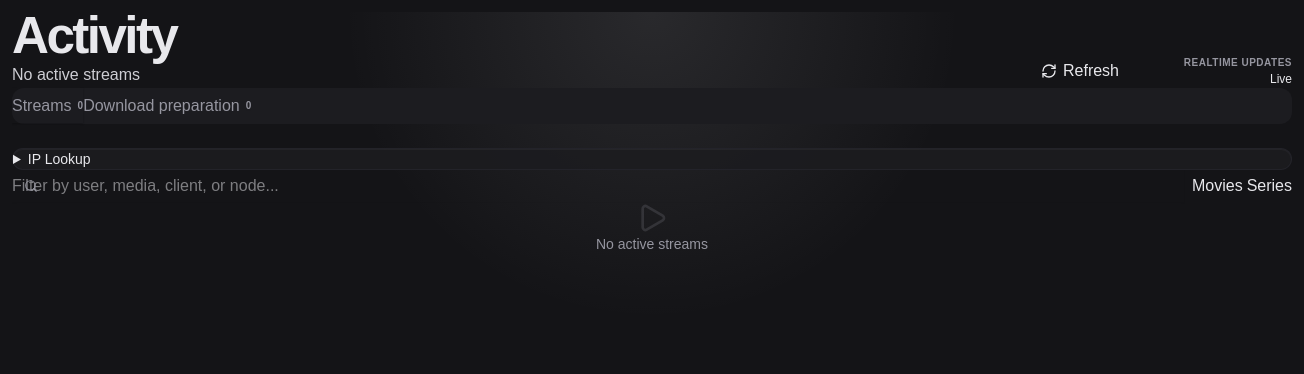
IP lookup › does not present a failed initial page as an empty result
The width and height of the screenshot is (1304, 374).
Step 1. Click the heading "IP Lookup" → (59, 159), box [28,151,91,167]
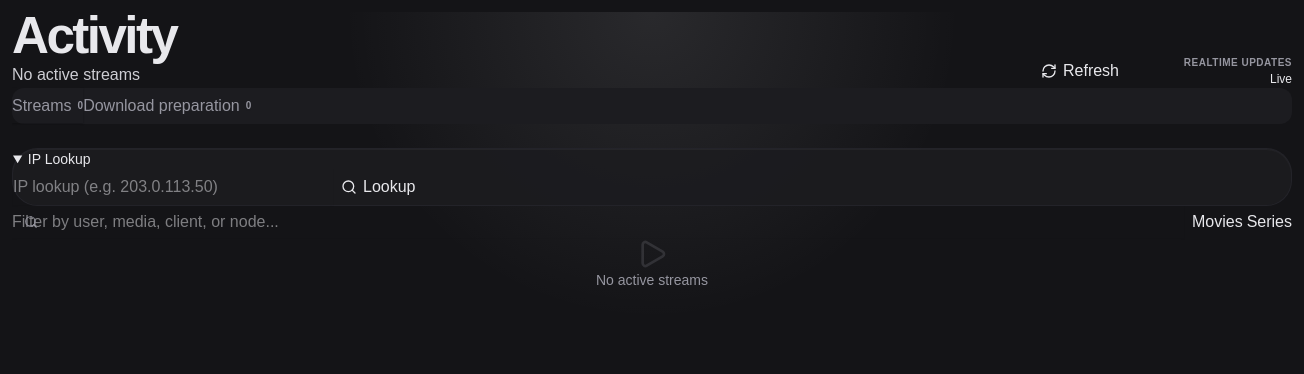
Step 2. Type "198.51.100.1" into the field with placeholder "IP lookup (e.g. 203.0.113.50)" → (173, 187), box [13,169,333,205]
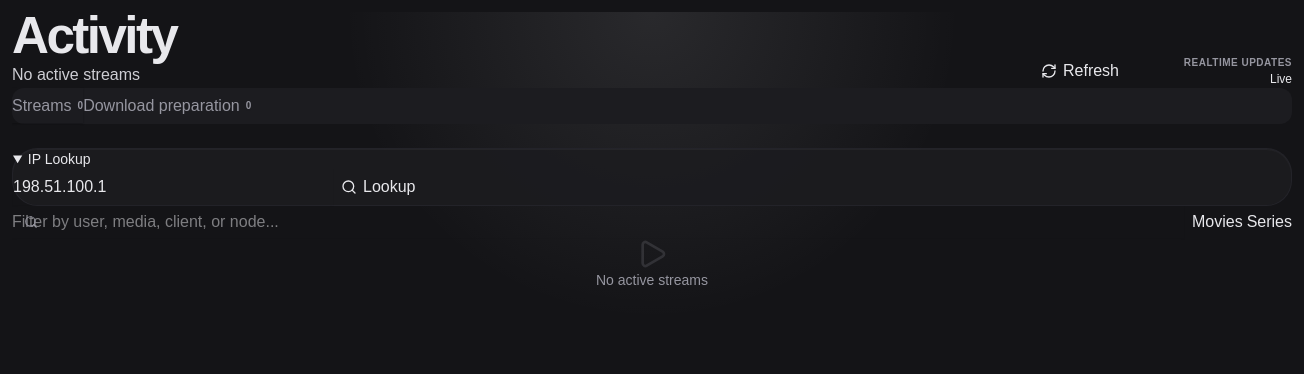
Step 3. Click the button "Lookup" → (378, 187), box [341,171,416,203]
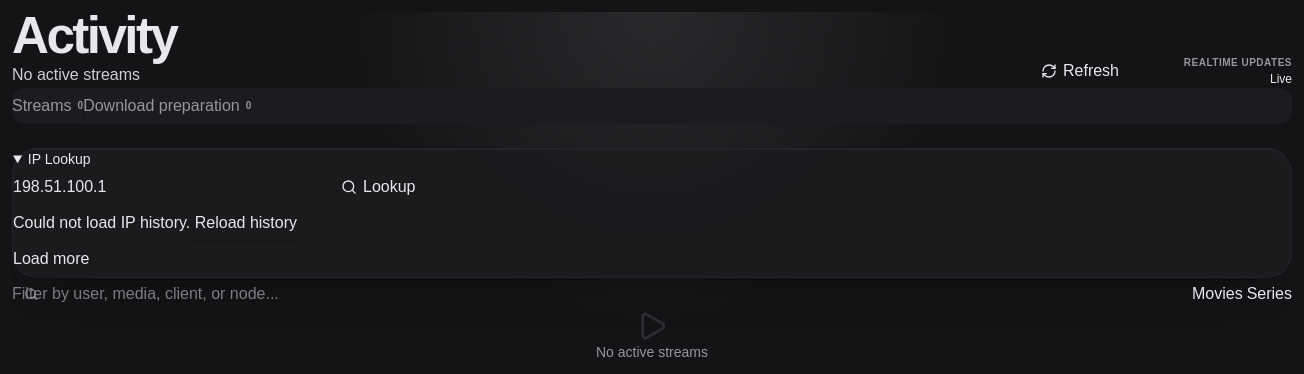
Now the text "Could not load IP history. Reload history" is shown, box [13,205,297,241]
